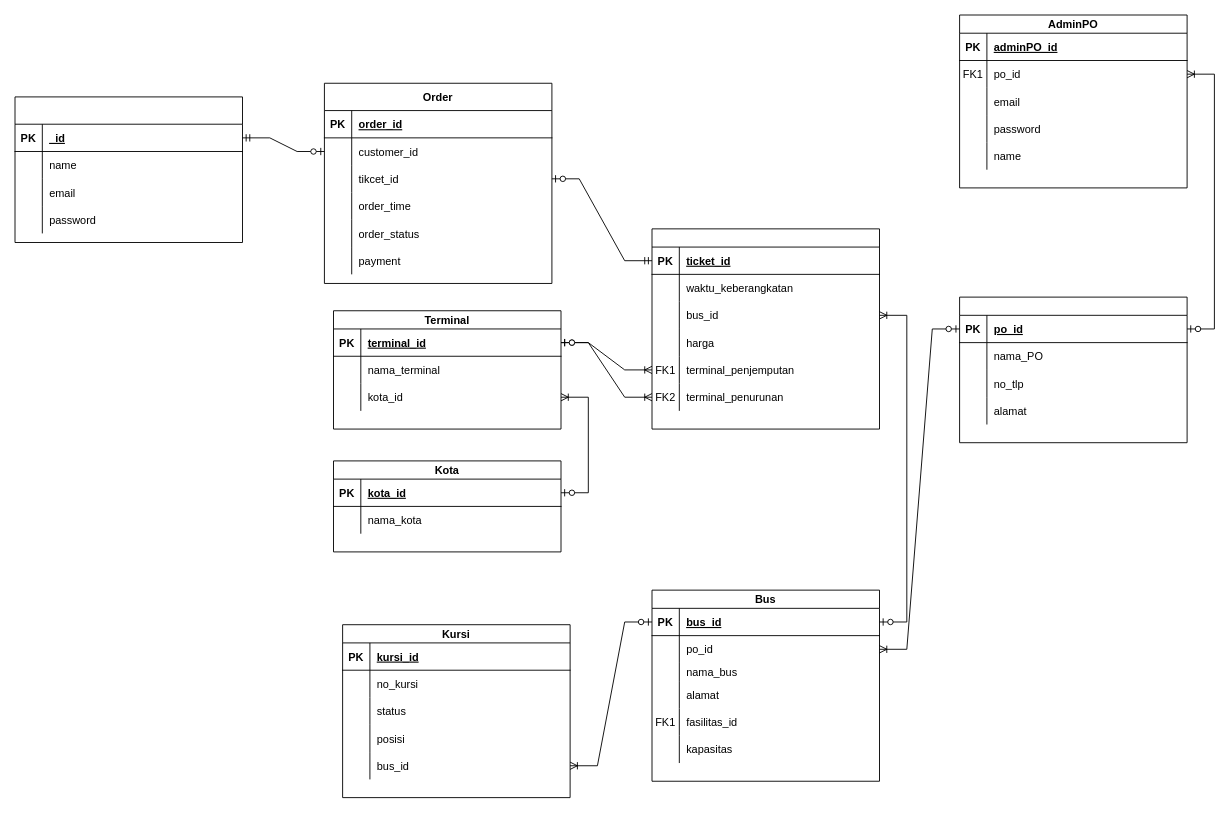
Some shapes in this 1229 by 813 pixel diagram are drawn without their labels. The shapes that lost their labels are listed below. From the top down, each one's box as (x1, y1, x2, y2) in pixels, then its label:
(14, 96, 243, 243): Customers
(651, 228, 880, 429): Tickets
(959, 296, 1187, 443): PO
